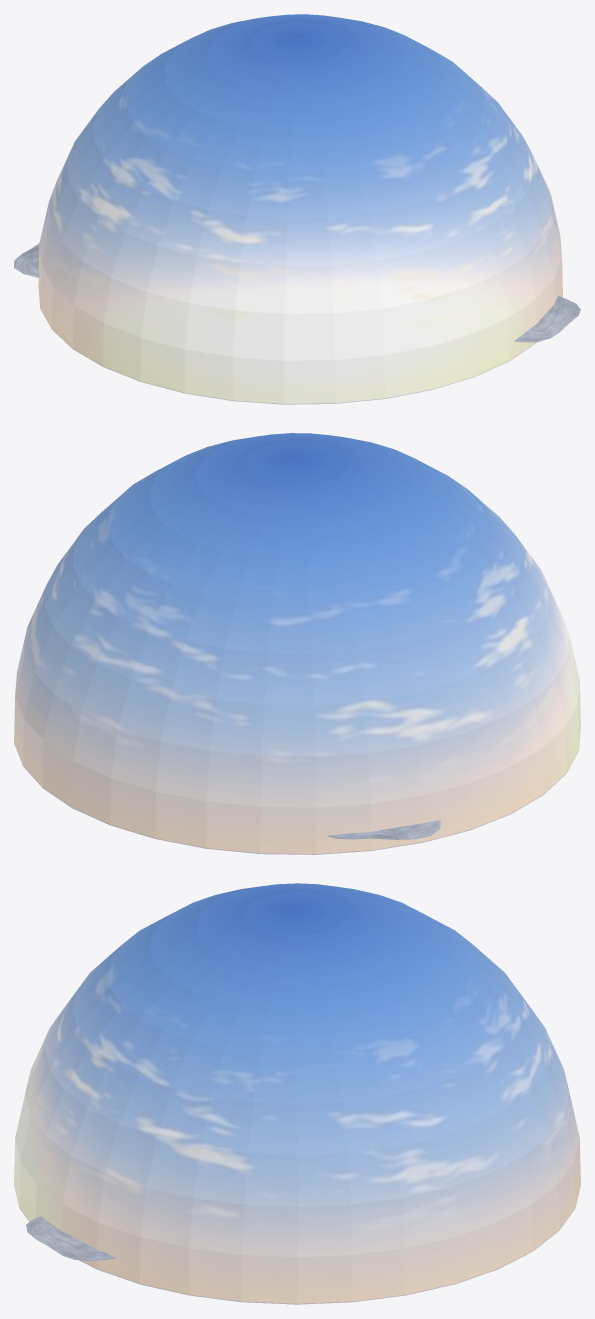
The model's file is lugar-moscu-ciudad.glb.
3 views of the same model, one above another, from view 1: azimuth 30°, elevation 25°; view 2: azimuth 150°, elevation 25°; view 3: azimuth 270°, elevation 25° (orthographic). The views are drawn at different scales.
Parts seen in each view (by area): view 1: planoC, vertT; view 2: planoC, vertT; view 3: planoC, vertT.
Boxes of the visible parts, bbox=[...] form: planoC: bbox=[38, 14, 562, 404]; vertT: bbox=[14, 243, 580, 342]; planoC: bbox=[14, 433, 580, 854]; vertT: bbox=[327, 820, 440, 839]; planoC: bbox=[14, 883, 580, 1304]; vertT: bbox=[26, 1216, 116, 1260].
Bounding box in the file's own units: 6584 × 3530 × 6584.
16 materials, 12 textured.
